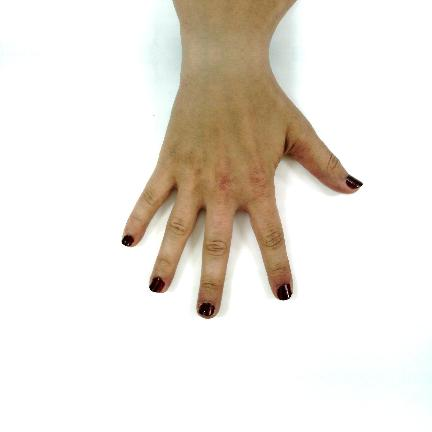Nail: (198, 303, 215, 318), (278, 284, 292, 301), (346, 174, 363, 188), (149, 278, 164, 293), (121, 235, 134, 246)
